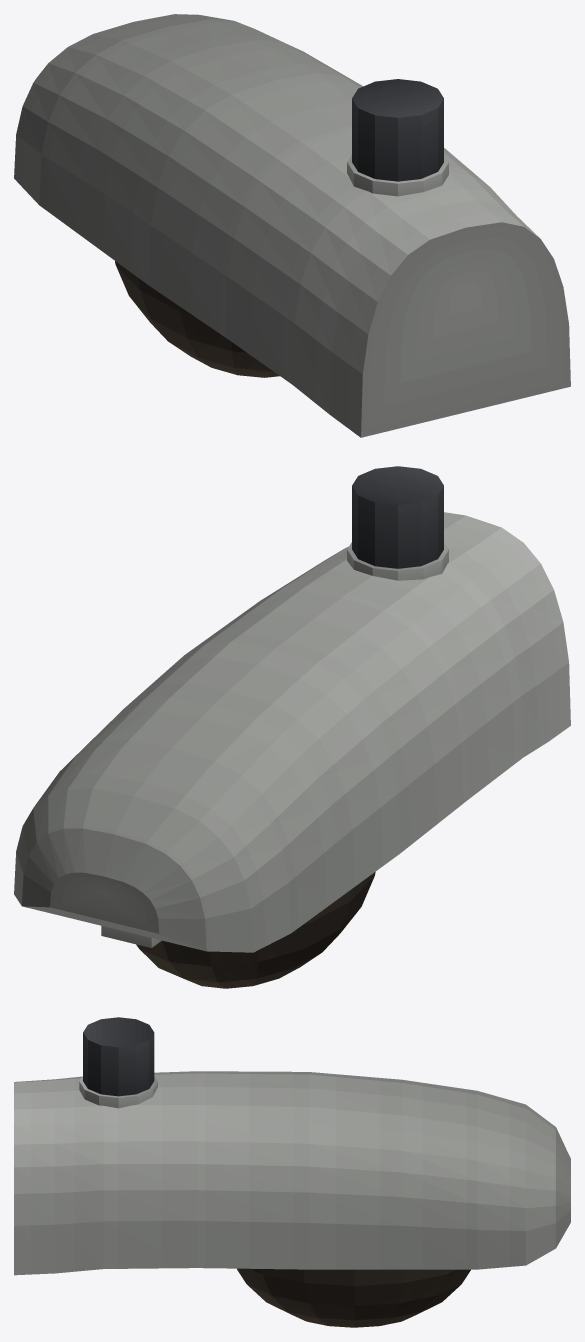
Rendered from streetlight_whov50.obj.
The picture shows the model from 3 angles, top to bottom: view 1: azimuth 30°, elevation 25°; view 2: azimuth 150°, elevation 25°; view 3: azimuth 270°, elevation 25°; orthographic projection. The views are drawn at different scales.
Visible parts, largest first — view 1: fixture; view 2: fixture; view 3: fixture.
Boxes of the visible parts, x1,y1,x2,y2 form: fixture: (14,14,570,437); fixture: (14,466,570,988); fixture: (14,1017,570,1327).
Size of the model in its own units: 0.375 by 0.5317 by 0.9312.
